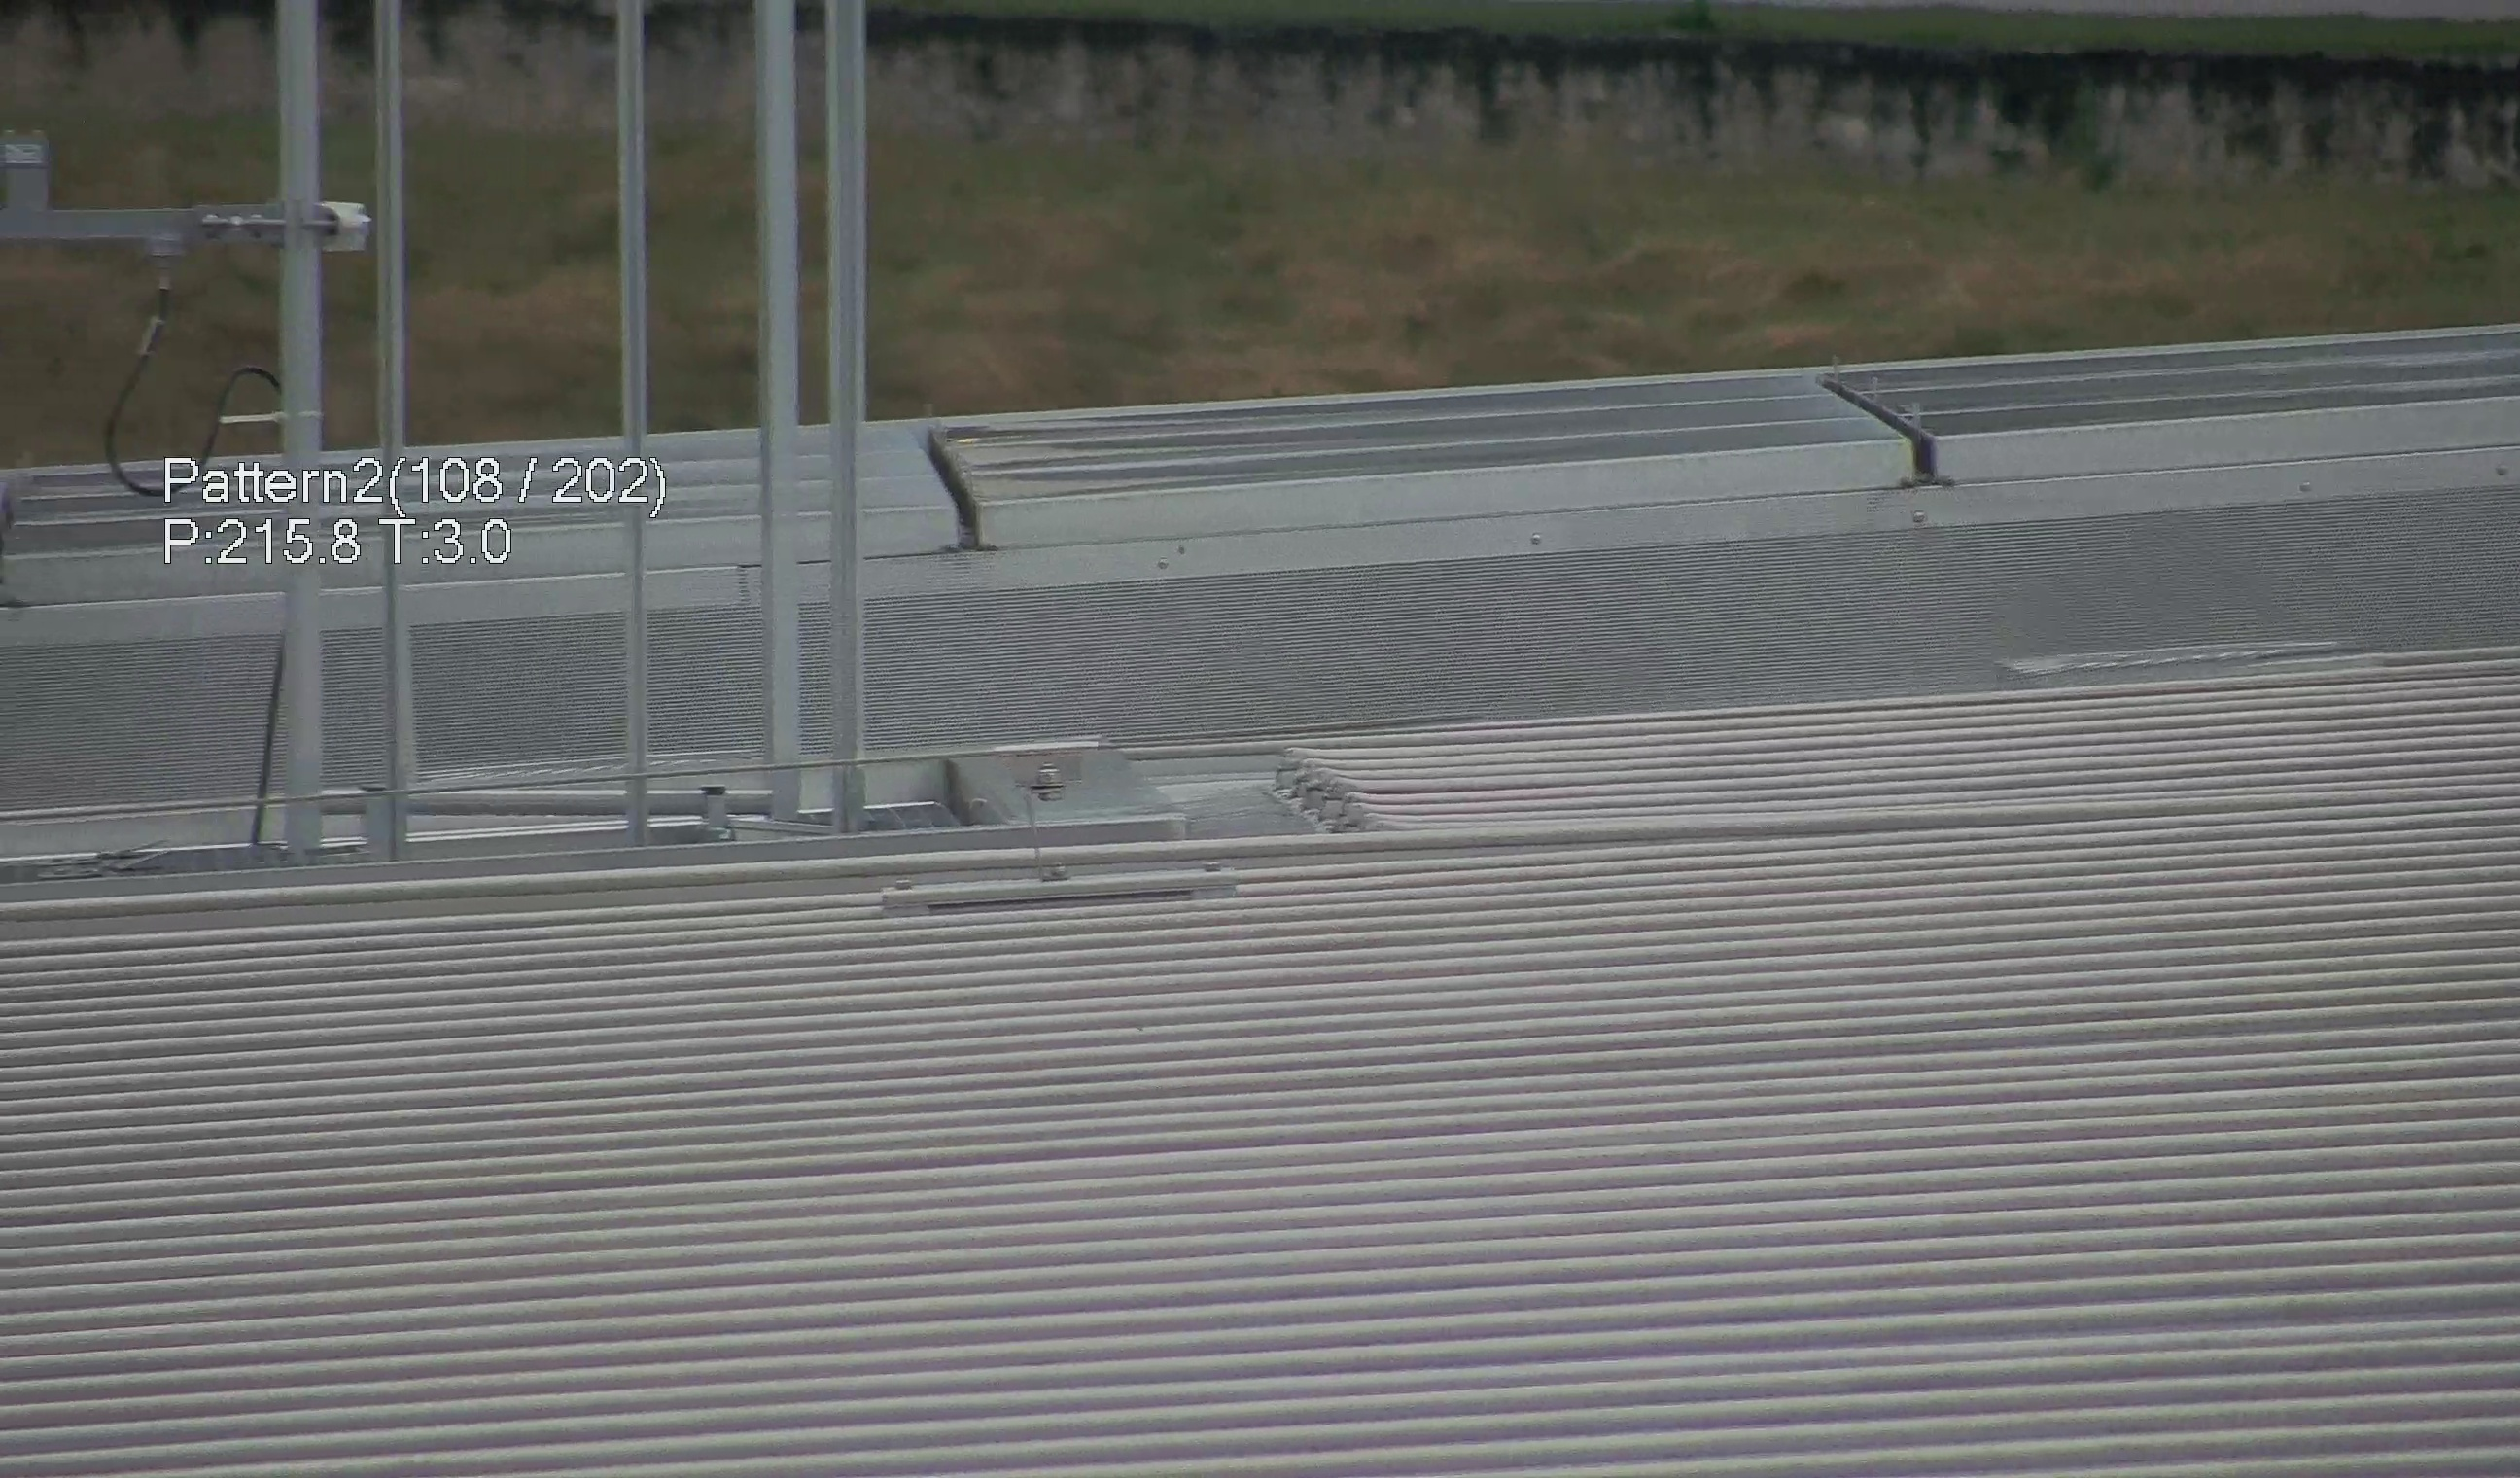Other: (909, 408, 995, 560)
